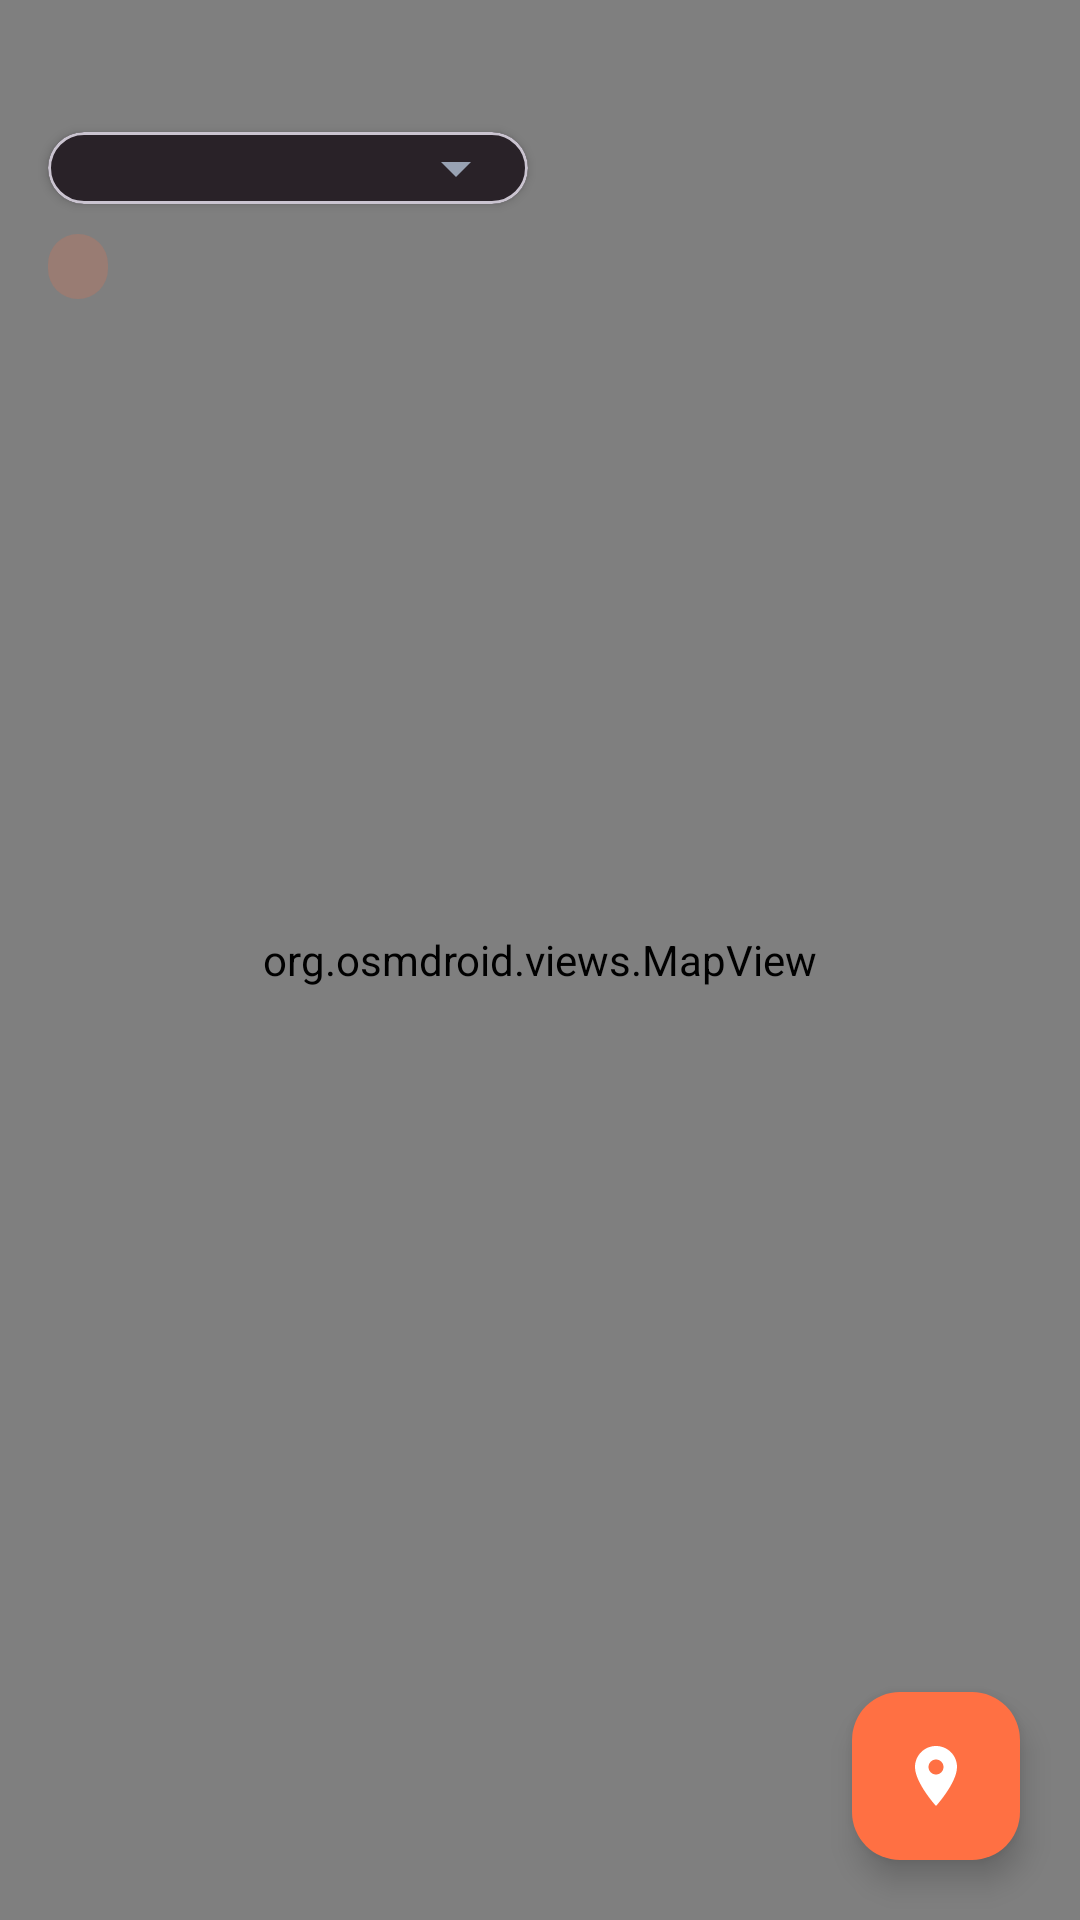

Point at icon controls on the screen. Image size 1080 x 1920, points as [x,y].
Centrar en mi ubicación: [936,1776]
